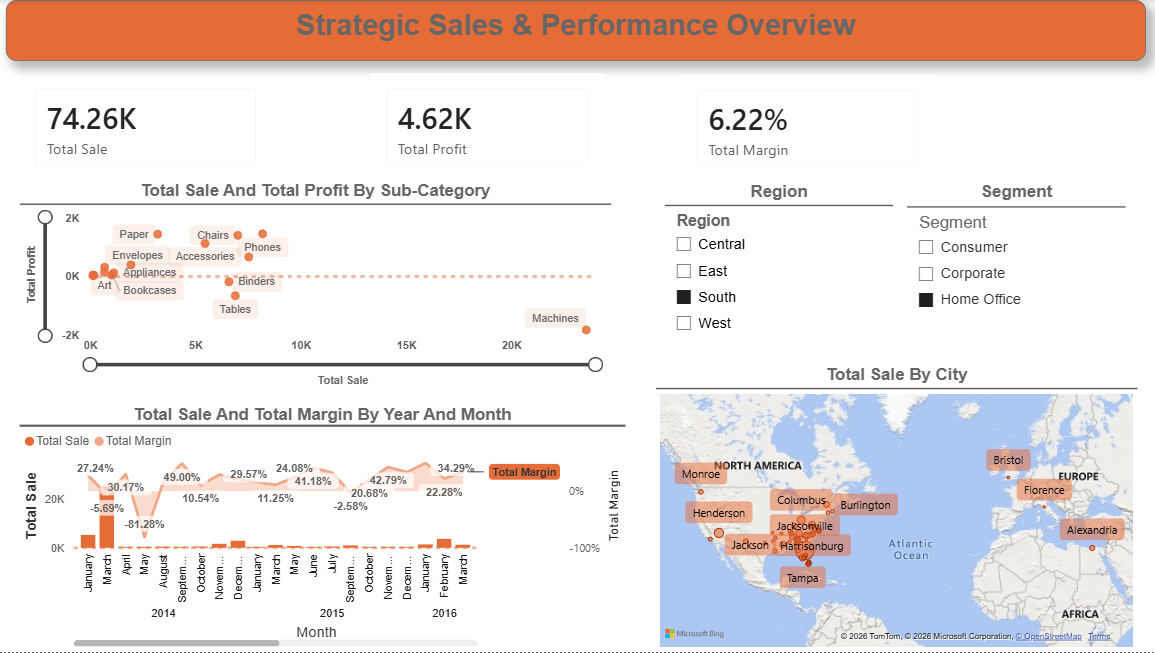

What the dashboard file says about the page in this screenshot:
{"tool":"powerbi","page":{"name":"Page 1","canvas":[1280,720],"ordinal":0},"visuals":[{"type":"lineClusteredColumnComboChart","title":"Total Sale And Total Margin By Year And Month","fields":{"Category":["Sample - Superstore.Order Date.Variation.Date Hierarchy.Year","Sample - Superstore.Order Date.Variation.Date Hierarchy.Month"],"Y":["Sample - Superstore.Total Sale"],"Y2":["Sample - Superstore.Total Margin"]},"box":[25.1,447.9,668.3,272.1],"z":0},{"type":"map","title":"Total Sale By City","fields":{"Category":["Sample - Superstore.City"],"Size":["Sample - Superstore.Total Sale"]},"box":[726.9,403.2,531.6,316.7],"z":1000},{"type":"scatterChart","title":"Total Sale And Total Profit By Sub-Category","fields":{"Category":["Sample - Superstore.Sub-Category"],"X":["Sample - Superstore.Total Sale"],"Y":["Sample - Superstore.Total Profit"]},"box":[25.1,199.5,653,231.6],"z":2000},{"type":"slicer","title":"Region","fields":{"Values":["Sample - Superstore.Region"]},"box":[737.3,200.7,252.3,178.4],"z":3000},{"type":"slicer","title":"Segment","fields":{"Values":["Sample - Superstore.Segment"]},"box":[1004.9,200.7,241.1,178.4],"z":4000},{"type":"textbox","box":[9.8,0,1258.5,67],"z":5000},{"type":"cardVisual","fields":{"Data":["Sample - Superstore.Total Sale"]},"box":[25.1,80.8,278.7,118.5],"z":6000},{"type":"cardVisual","fields":{"Data":["Sample - Superstore.Total Profit"]},"box":[412.5,80.8,257.8,118.5],"z":7000},{"type":"cardVisual","fields":{"Data":["Sample - Superstore.Total Margin"]},"box":[755.4,82.2,280.1,118.5],"z":8000}]}

Visuals, with their boxes in screenshot pixels (x1, y1, x2, y2), scaled from the page's 1280x720 canvas onto the 1155x653 screenshot:
"Total Sale And Total Margin By Year And Month" lineClusteredColumnComboChart: [left=23, top=406, right=626, bottom=652]
"Total Sale By City" map: [left=656, top=366, right=1136, bottom=652]
"Total Sale And Total Profit By Sub-Category" scatterChart: [left=23, top=181, right=612, bottom=391]
"Region" slicer: [left=665, top=182, right=893, bottom=344]
"Segment" slicer: [left=907, top=182, right=1124, bottom=344]
textbox: [left=9, top=0, right=1144, bottom=61]
cardVisual - Sample - Superstore.Total Sale: [left=23, top=73, right=274, bottom=181]
cardVisual - Sample - Superstore.Total Profit: [left=372, top=73, right=605, bottom=181]
cardVisual - Sample - Superstore.Total Margin: [left=682, top=75, right=934, bottom=182]
